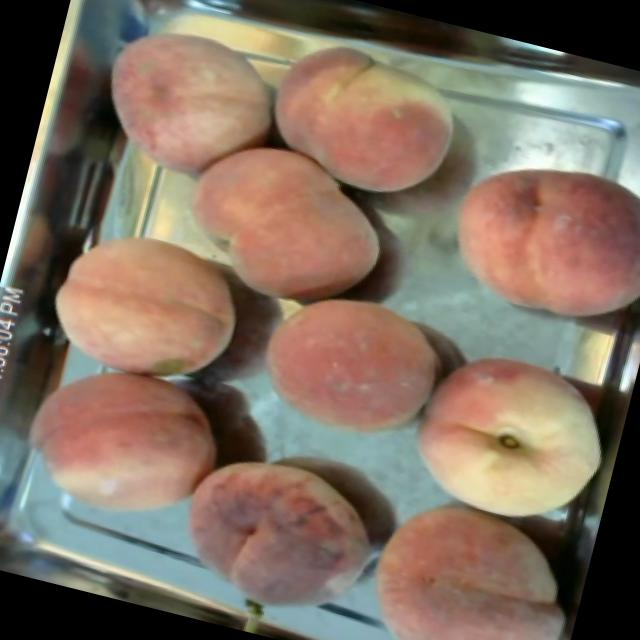Fruit: (149, 417, 414, 640), (381, 318, 637, 548), (154, 108, 414, 333), (242, 5, 484, 226), (237, 258, 474, 472), (71, 0, 307, 207), (4, 346, 243, 546), (331, 463, 599, 640), (425, 128, 640, 347), (31, 200, 266, 400)
